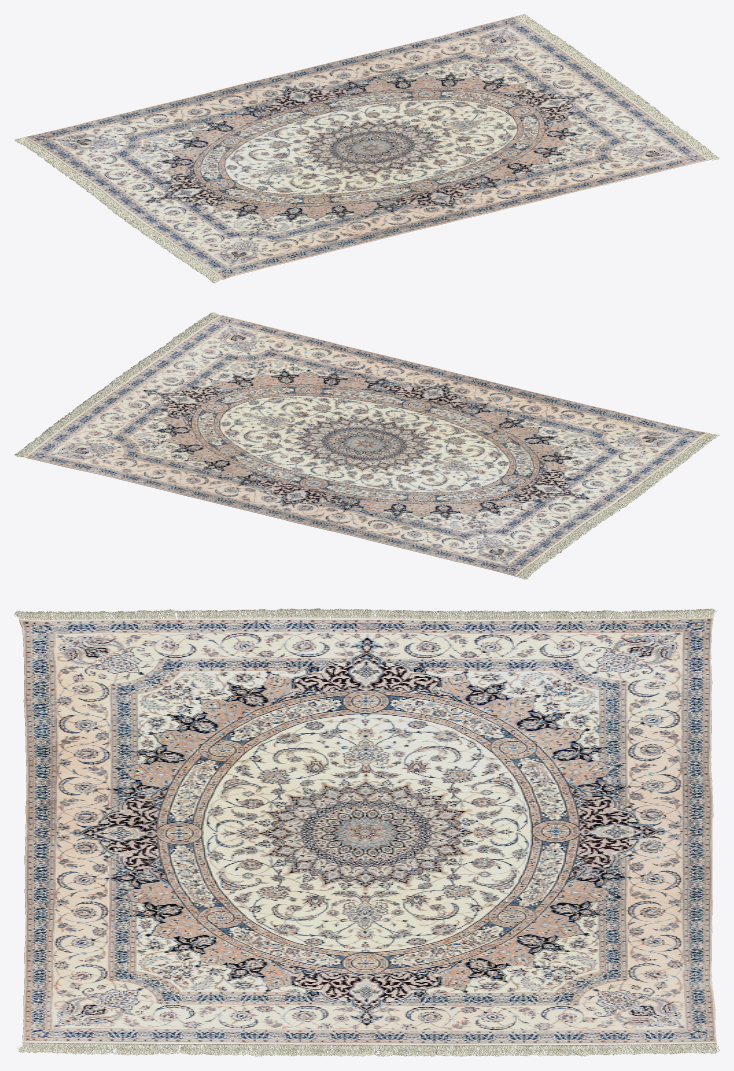
The picture shows the model from 3 angles, top to bottom: view 1: azimuth 30°, elevation 25°; view 2: azimuth 150°, elevation 25°; view 3: azimuth 270°, elevation 25°; orthographic projection. The views are drawn at different scales.
Parts seen in each view (by area): view 1: Object_4; view 2: Object_4; view 3: Object_4.
Part boxes in pixels (x1=…): Object_4: x1=14, y1=14, x2=719, y2=283; Object_4: x1=14, y1=312, x2=719, y2=579; Object_4: x1=14, y1=608, x2=719, y2=1056.
Bounding box in the file's own units: 1.5 × 0.00887 × 1.
2 materials, 1 textured.
